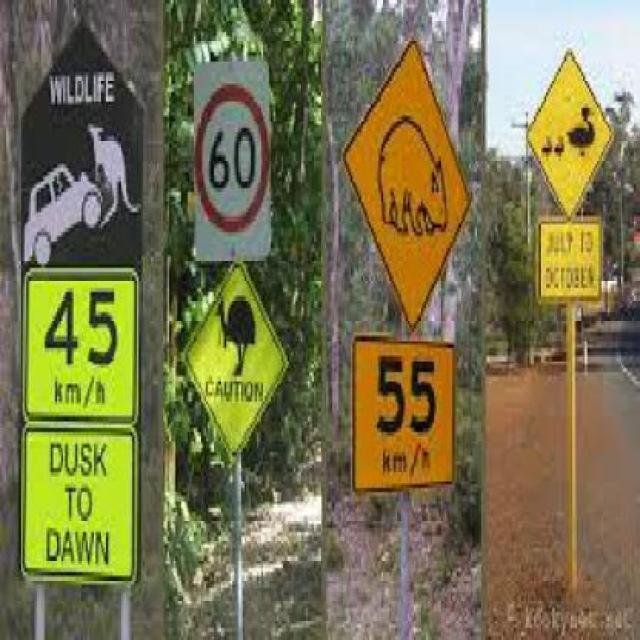forb_speed_over_60: (193, 76, 278, 244)
